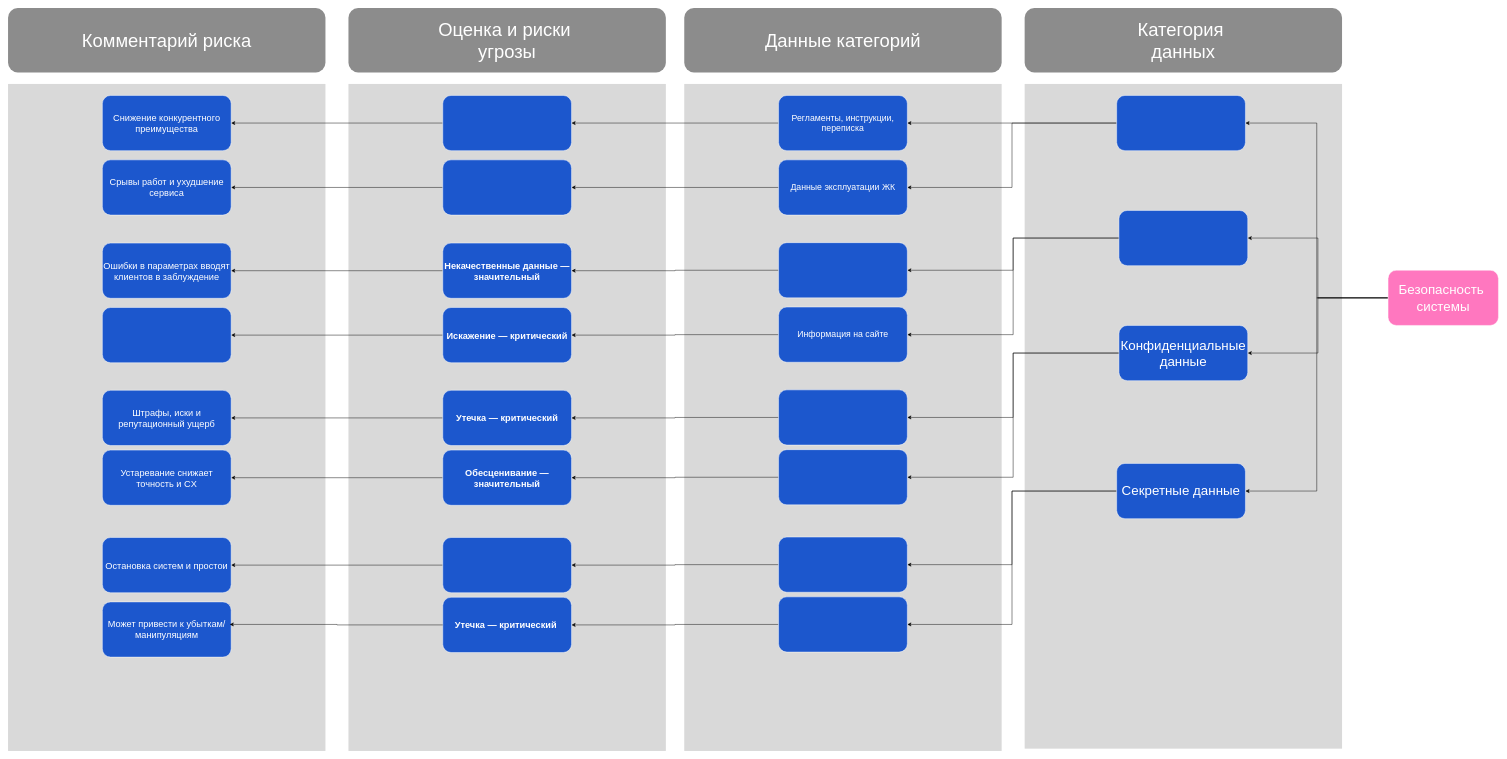
The diagram is 1507 pixels wide and 759 high, and some of its shapes have lost their labels. Here are the shapes that lost their labels. From the top down, the centre of each, then its label:
(x=507, y=123): Утечка — значительный
(x=1180, y=123): Внутренние данные
(x=507, y=187): Потеря — значительный
(x=1183, y=238): Публичные данные
(x=842, y=270): Витрина квартир
(x=166, y=335): Подмена информации бьёт по доверию и продажам
(x=842, y=417): ПДн клиентов, договоры, бронирования
(x=842, y=477): История платежей / сделок
(x=507, y=565): Потеря — критический
(x=842, y=564): Доступы/ключи к ИС
(x=842, y=624): Финансовая отчётность, планы
